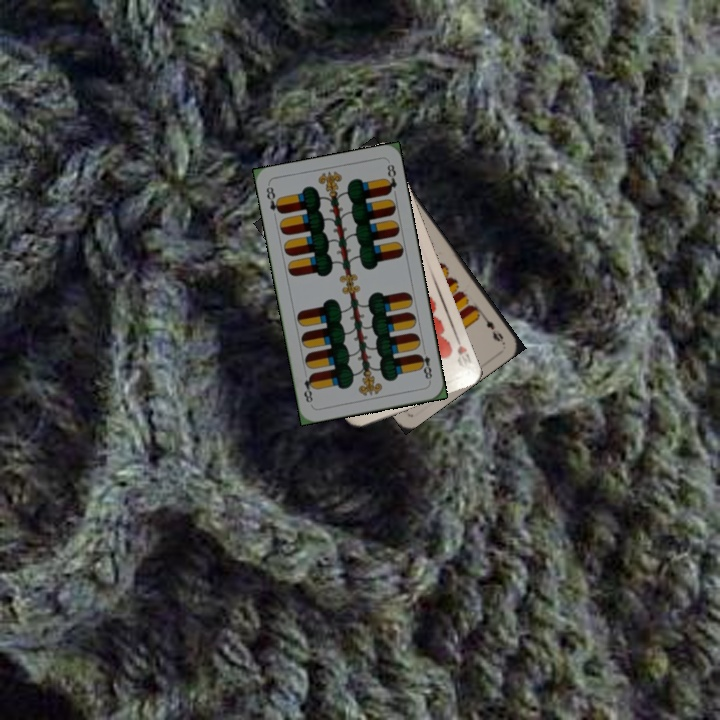E8: (262, 182, 284, 216), (414, 350, 434, 384)
E9: (474, 309, 506, 344)
H10: (451, 331, 469, 371)
